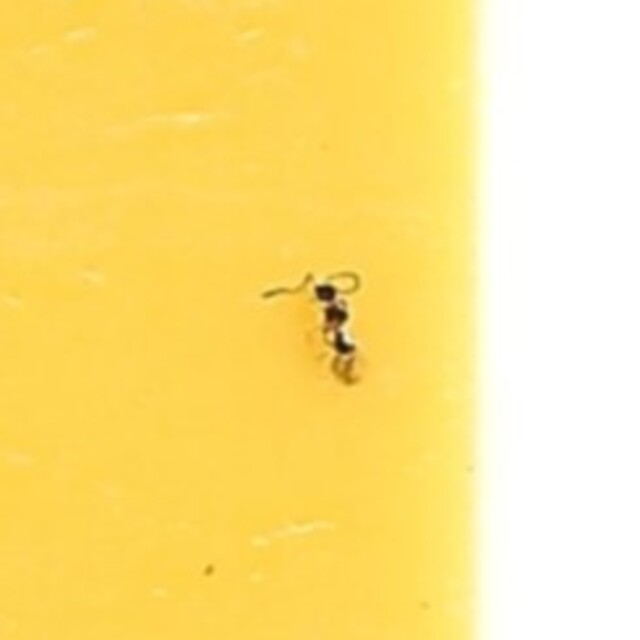Hymenoptera: (261, 254, 379, 386)
